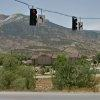Traffic light: (20, 4, 88, 35)
